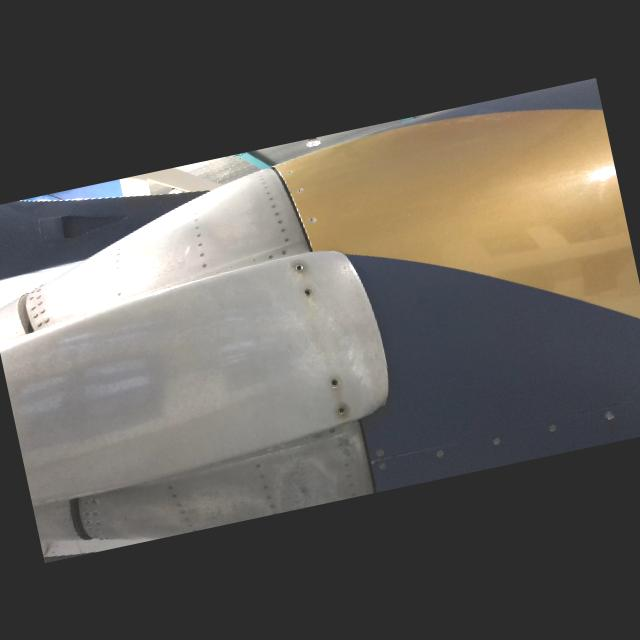Missing Fastener: (302, 286, 314, 298), (329, 376, 340, 389), (294, 262, 304, 273), (336, 406, 346, 416)
